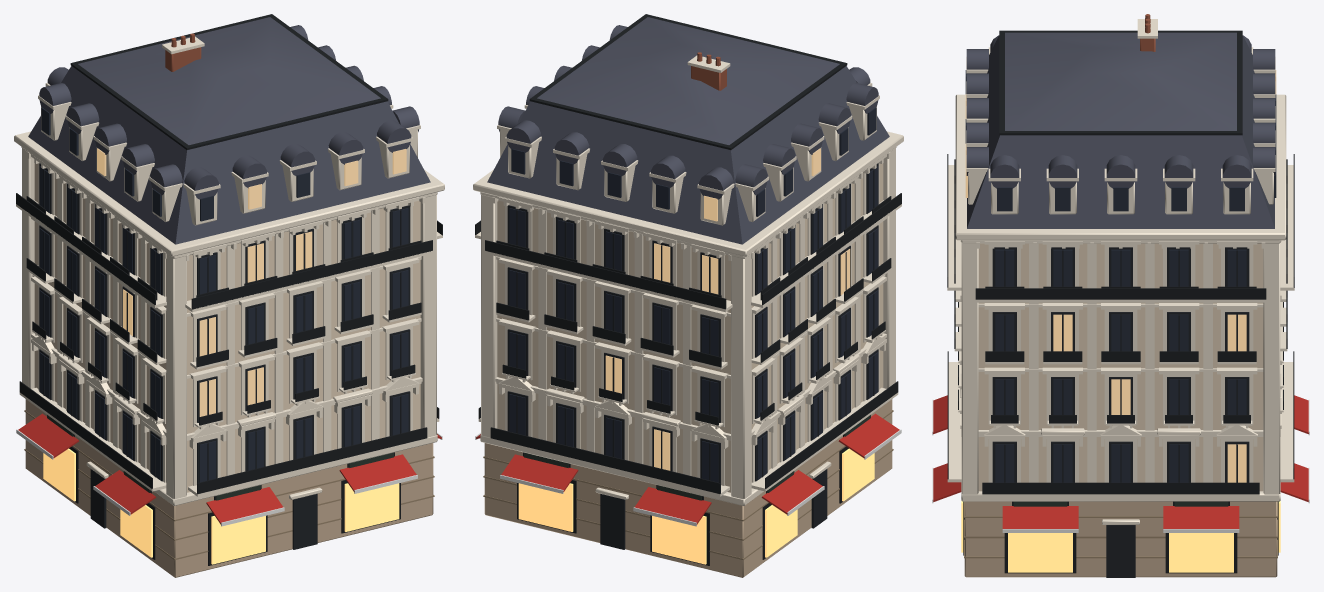
The model's file is building_a.fbx.
3 views of the same model, side by side, from view 1: azimuth 30°, elevation 25°; view 2: azimuth 150°, elevation 25°; view 3: azimuth 270°, elevation 25° (orthographic). The views are drawn at different scales.
Visible parts, largest first — view 1: building_a; view 2: building_a; view 3: building_a.
Boxes of the visible parts, x1,y1,x2,y2 form: building_a: (14, 14, 444, 577); building_a: (473, 14, 903, 577); building_a: (932, 14, 1309, 577).
Size of the model in its own units: 16.89 by 23.45 by 16.89.
